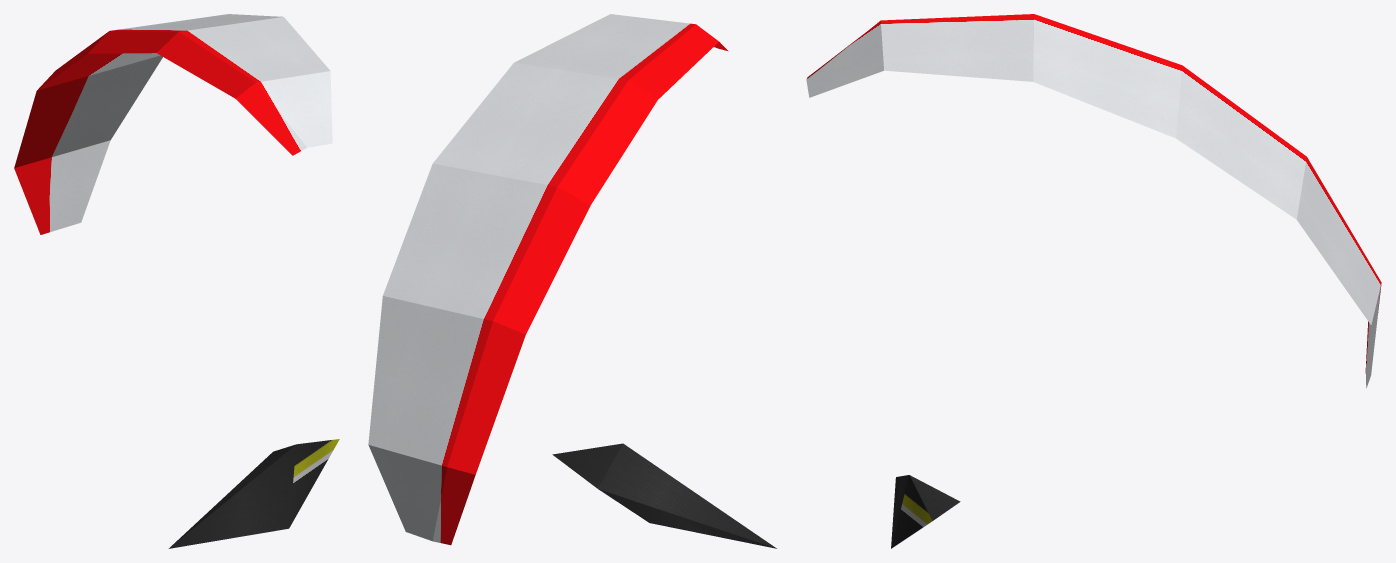
Rendered from paraglider-red-thermal-cbj_LOD03.gltf.
3 views of the same model, side by side, from view 1: azimuth 30°, elevation 25°; view 2: azimuth 150°, elevation 25°; view 3: azimuth 270°, elevation 25° (orthographic). The views are drawn at different scales.
Visible parts, largest first — view 1: glider00; view 2: glider00; view 3: glider00.
Boxes of the visible parts, bbox=[...] form: glider00: bbox=[14, 14, 339, 548]; glider00: bbox=[368, 14, 776, 548]; glider00: bbox=[806, 14, 1381, 548].
Size of what is drawn, in the model's own units: 3.42 by 8 by 8.18.
